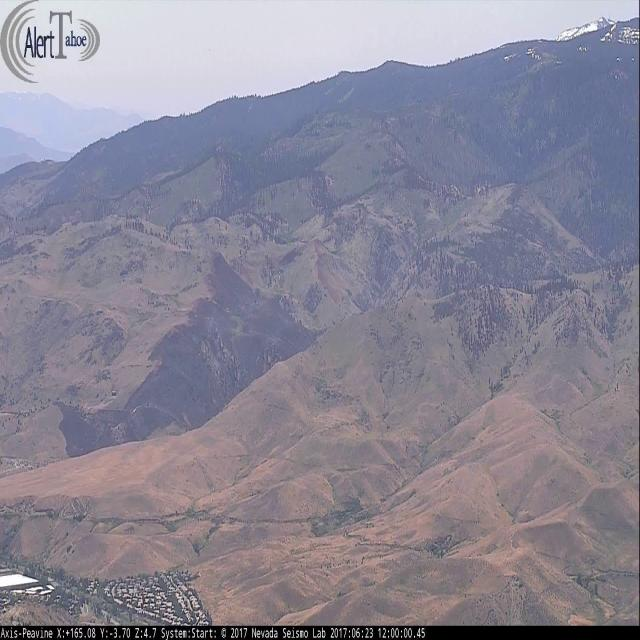smoke: (204, 306, 226, 340)
